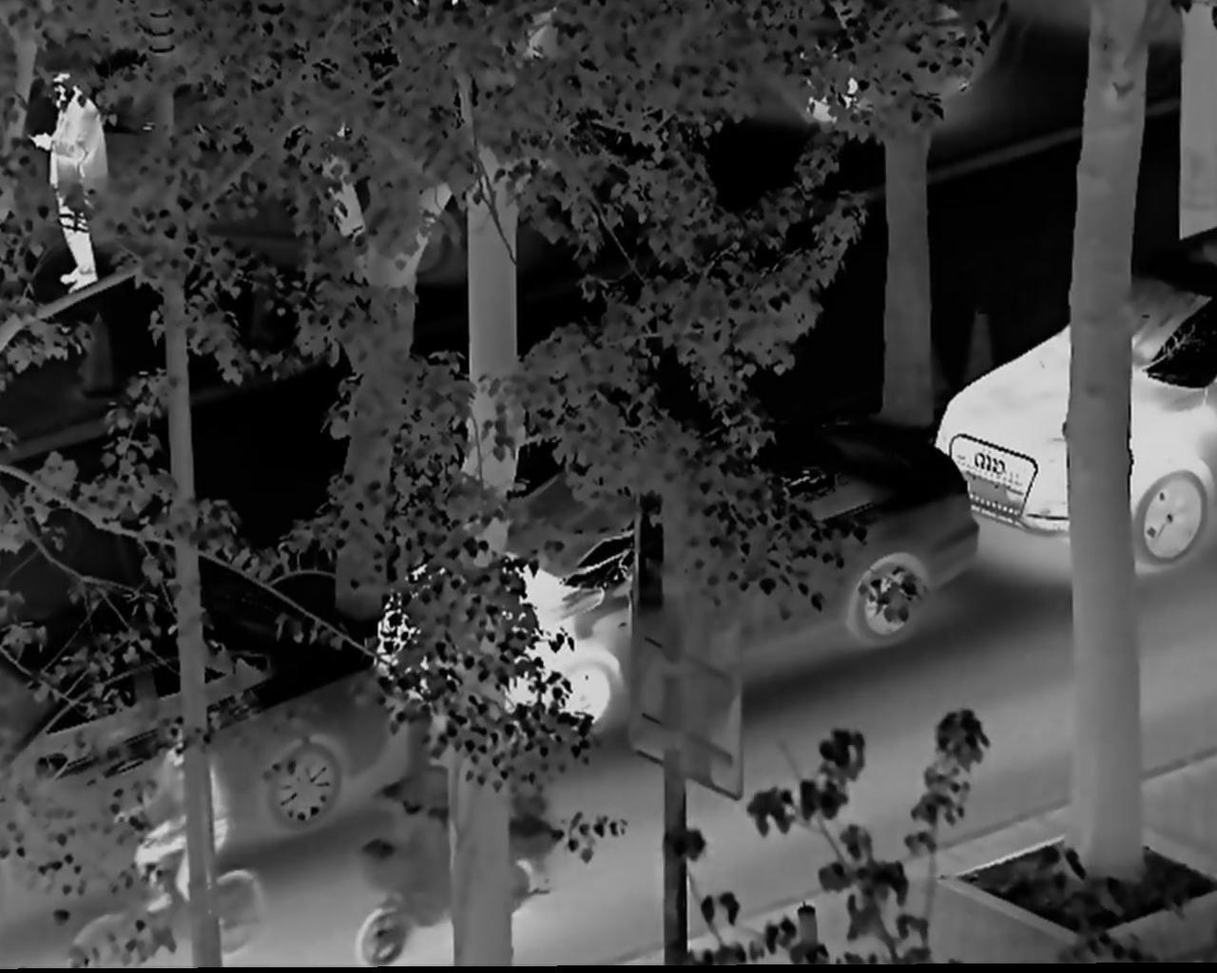person: (105, 730, 236, 910), (30, 69, 118, 296)
